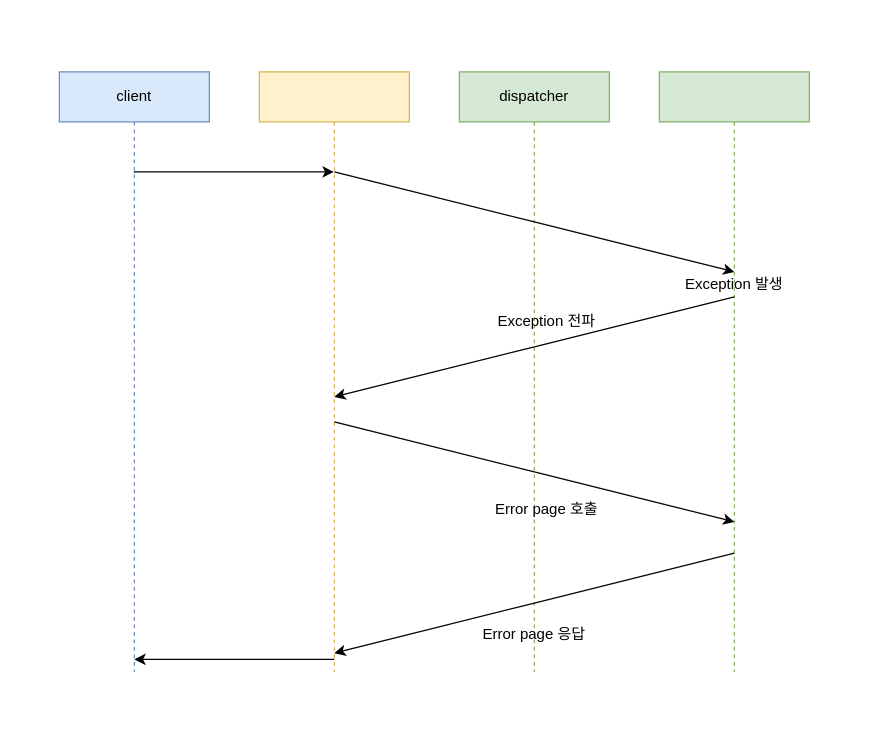
This 880x743 diagram has some shape labels left out. Each missing label, with the box of its shape:
spring: (658, 71, 809, 672)
WAS: (258, 71, 409, 672)
